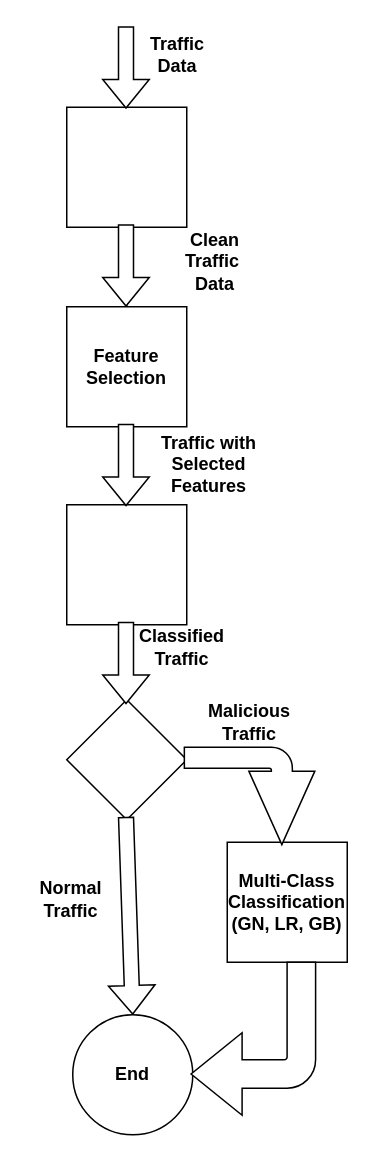
Image size: 374x1161. Some labels were removed from this diagram. The shapes that lost their labels are listed below. From the top down, each one's box as (x1, y1, x2, y2) in pixels, then its label:
(65, 106, 187, 227): Pre processing
(65, 503, 187, 625): Binary Classification (GN, LR, GB)
